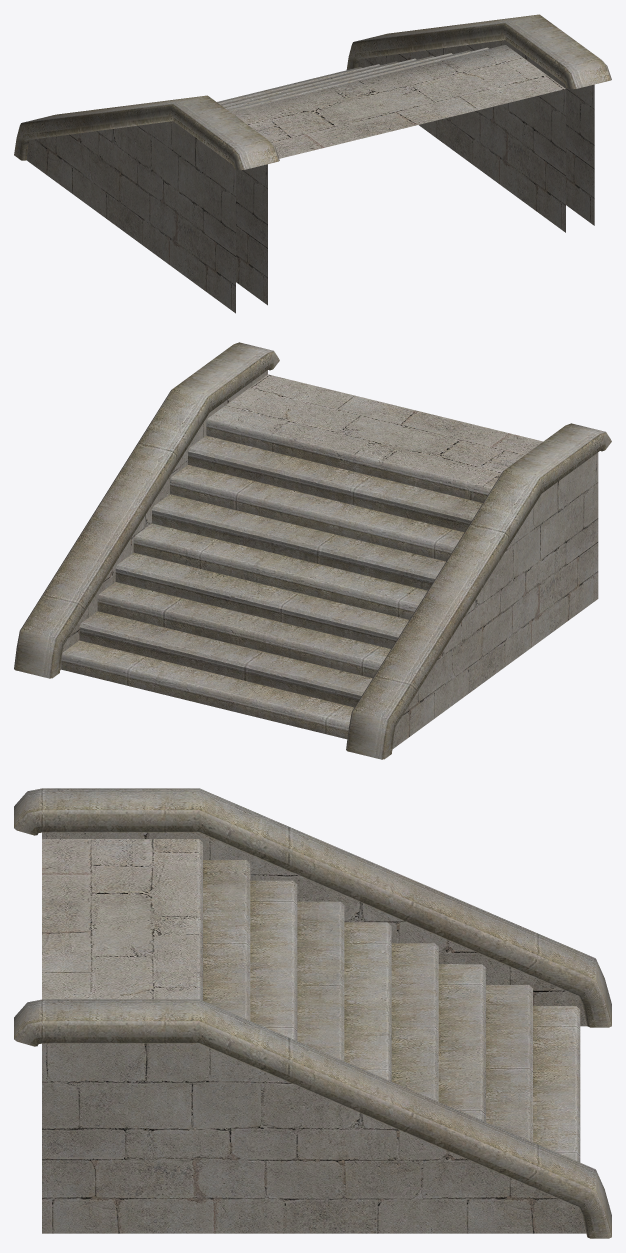
The model's file is CenterStair.fbx.
The picture shows the model from 3 angles, top to bottom: view 1: azimuth 30°, elevation 25°; view 2: azimuth 150°, elevation 25°; view 3: azimuth 270°, elevation 25°; orthographic projection. The views are drawn at different scales.
Parts seen in each view (by area): view 1: LV_Campagna_City_MiddleSquareStair01_SM_KSR; view 2: LV_Campagna_City_MiddleSquareStair01_SM_KSR; view 3: LV_Campagna_City_MiddleSquareStair01_SM_KSR.
Part boxes in pixels (x1,y1,x2,y2): LV_Campagna_City_MiddleSquareStair01_SM_KSR: (14,14,611,313); LV_Campagna_City_MiddleSquareStair01_SM_KSR: (14,342,611,759); LV_Campagna_City_MiddleSquareStair01_SM_KSR: (14,788,611,1238).
Bounding box in the file's own units: 1.08 × 0.4607 × 1.16.
Materials: 1 (1 with a texture image).
